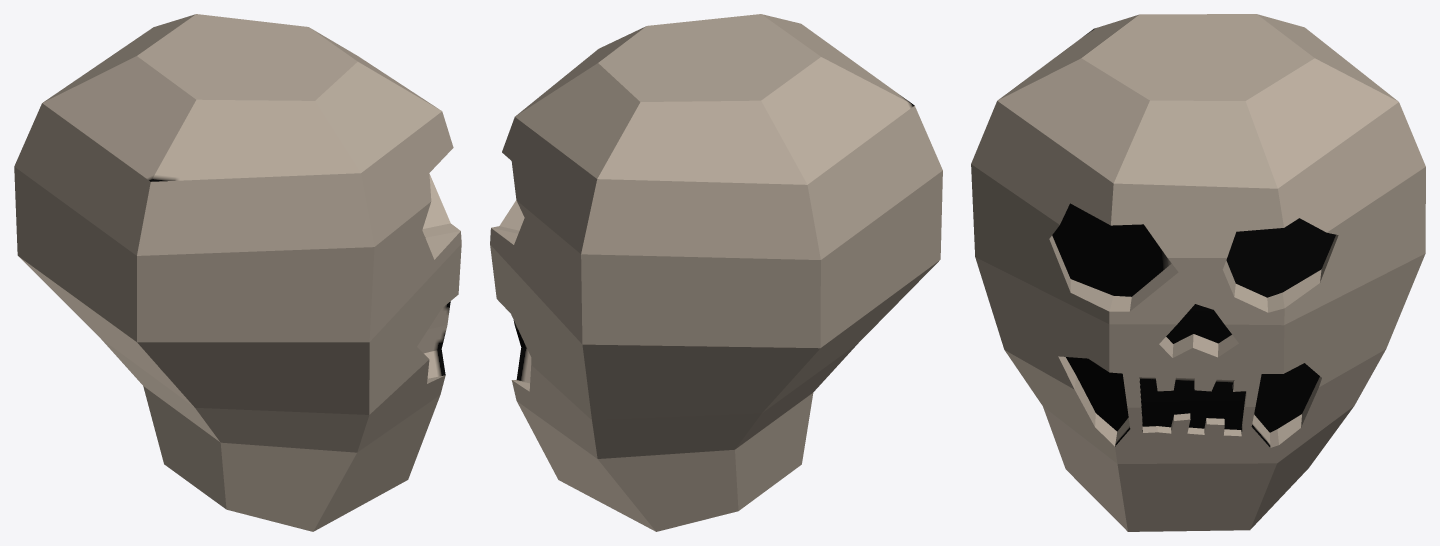
Rendered from Skull.fbx.
3 views of the same model, side by side, from view 1: azimuth 30°, elevation 25°; view 2: azimuth 150°, elevation 25°; view 3: azimuth 270°, elevation 25° (orthographic). The views are drawn at different scales.
Visible parts, largest first — view 1: Skull; view 2: Skull; view 3: Skull.
Part boxes in pixels (x1,y1,x2,y2): Skull: (14, 14, 461, 531); Skull: (490, 14, 942, 531); Skull: (971, 14, 1425, 531).
Size of the model in its own units: 1.15 by 1.37 by 1.34.
